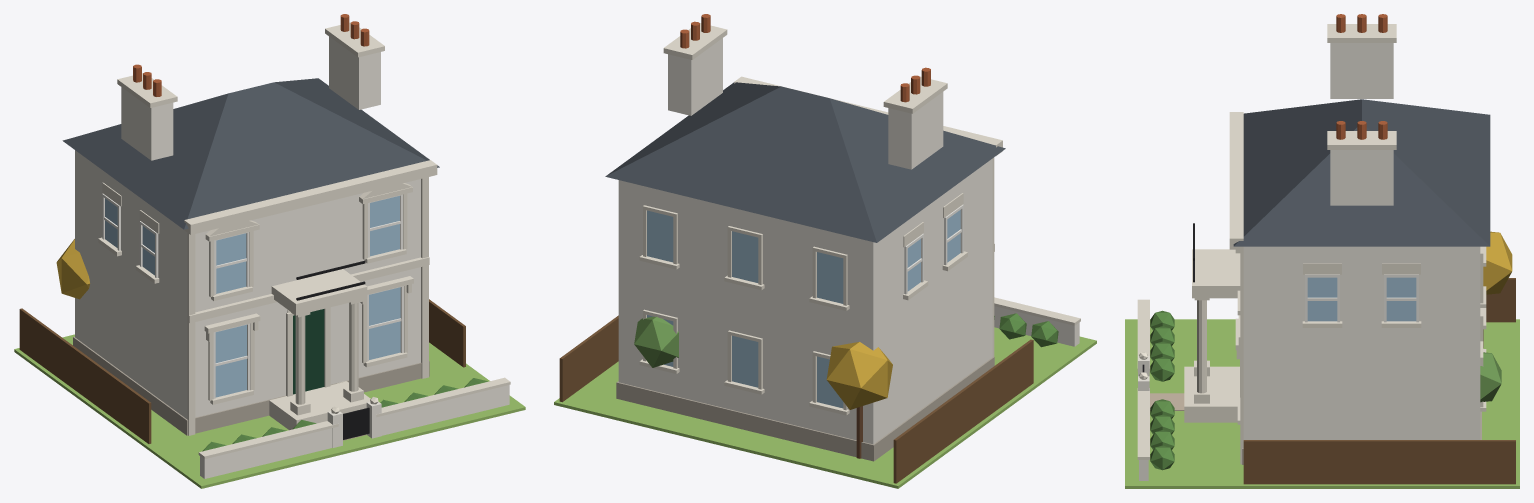
Rendered from MustakilEv_londra_villa_8_Hafif.fbx.
The picture shows the model from 3 angles, left to right: view 1: azimuth 30°, elevation 25°; view 2: azimuth 150°, elevation 25°; view 3: azimuth 270°, elevation 25°; orthographic projection. The views are drawn at different scales.
Parts seen in each view (by area): view 1: MustakilEv_londra_villa_8_Hafif; view 2: MustakilEv_londra_villa_8_Hafif; view 3: MustakilEv_londra_villa_8_Hafif.
Part boxes in pixels (<box>): MustakilEv_londra_villa_8_Hafif: <box>14,14,525,488</box>; MustakilEv_londra_villa_8_Hafif: <box>554,14,1096,488</box>; MustakilEv_londra_villa_8_Hafif: <box>1125,14,1519,488</box>.
Bounding box in the file's own units: 10 × 9.39 × 10.
